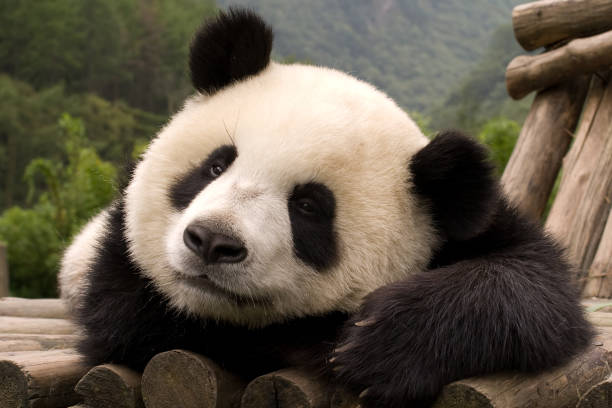panda: (86, 4, 485, 359)
